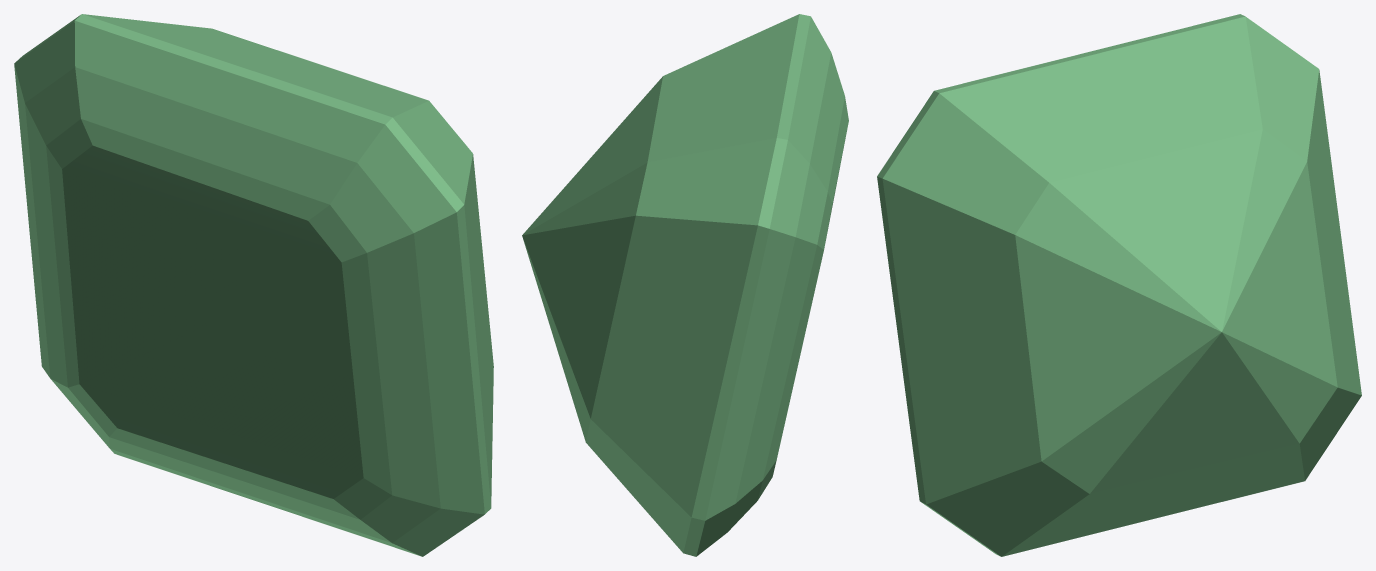
Rendered from TL4_8shapes_Square_Classic_Stone.001 3.glb.
The picture shows the model from 3 angles, left to right: view 1: azimuth 30°, elevation 25°; view 2: azimuth 150°, elevation 25°; view 3: azimuth 270°, elevation 25°; orthographic projection. The views are drawn at different scales.
Visible parts, largest first — view 1: TL4_8shapes_Square_Classic_Stone.001; view 2: TL4_8shapes_Square_Classic_Stone.001; view 3: TL4_8shapes_Square_Classic_Stone.001.
Boxes of the visible parts, bbox=[...] form: TL4_8shapes_Square_Classic_Stone.001: bbox=[14, 14, 493, 556]; TL4_8shapes_Square_Classic_Stone.001: bbox=[522, 14, 848, 556]; TL4_8shapes_Square_Classic_Stone.001: bbox=[877, 14, 1361, 556].
Size of the model in its own units: 0.3499 by 0.4722 by 0.4637.
